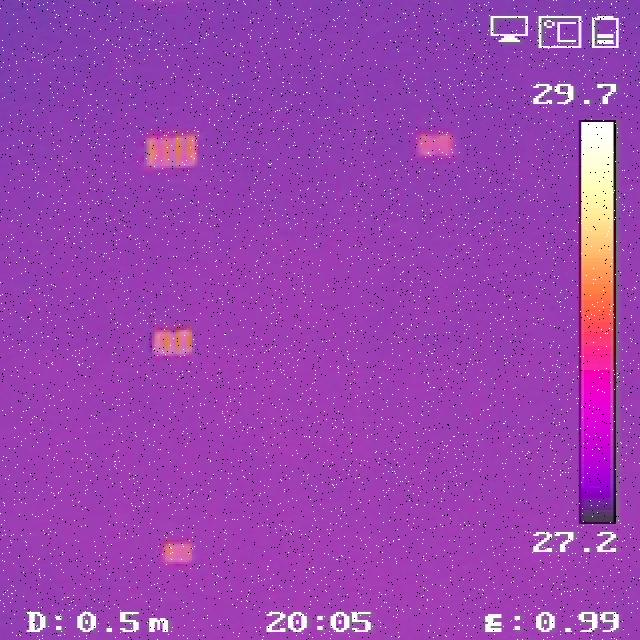Indistinguishable 4-bar target: (421, 130, 456, 158), (156, 330, 193, 356), (167, 540, 193, 563)
threshold 4-bar target: (152, 133, 196, 168)
